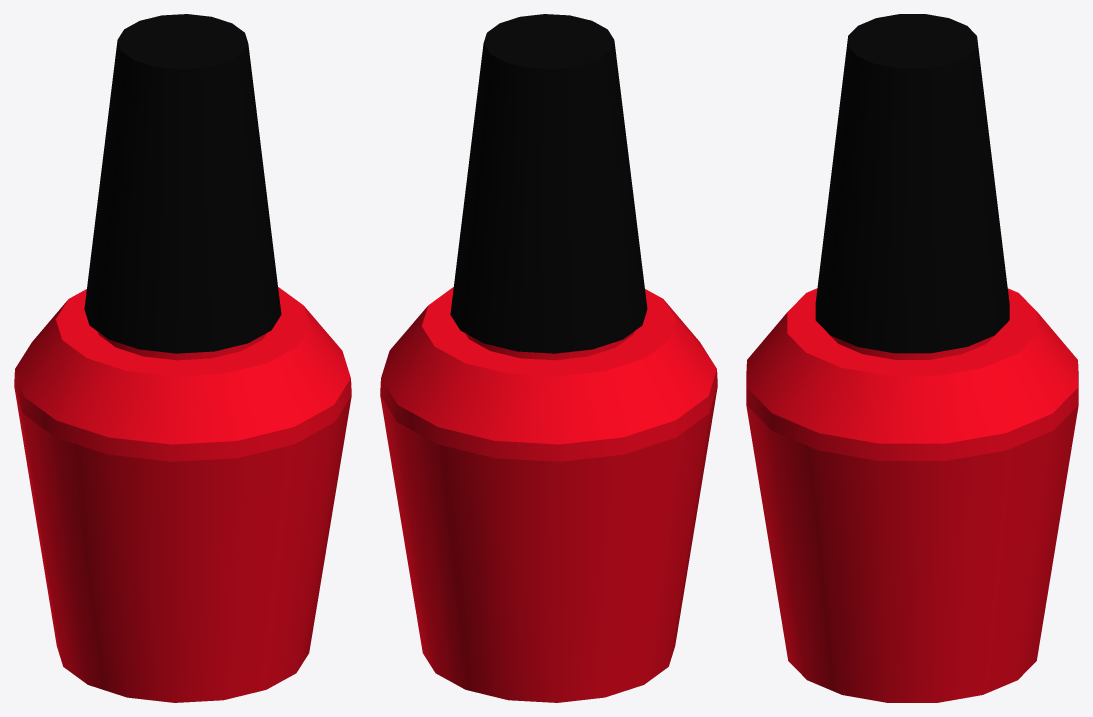
File: SM_Lacquer.fbx
3 views of the same model, side by side, from view 1: azimuth 30°, elevation 25°; view 2: azimuth 150°, elevation 25°; view 3: azimuth 270°, elevation 25° (orthographic).
Parts seen in each view (by area): view 1: SM_Lacquer; view 2: SM_Lacquer; view 3: SM_Lacquer.
Part boxes in pixels (x1,y1,x2,y2): SM_Lacquer: [14, 14, 351, 702]; SM_Lacquer: [380, 14, 717, 702]; SM_Lacquer: [746, 14, 1078, 702].
Bounding box in the file's own units: 8 × 8 × 16.18.
1 material, 1 textured.
